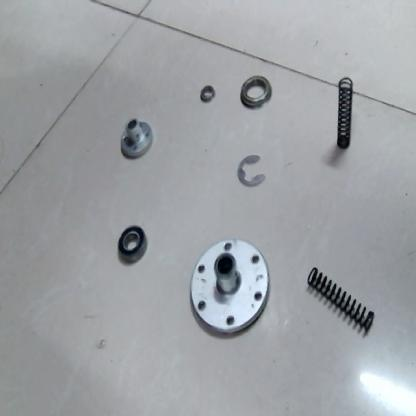FOD: (187, 234, 272, 338), (303, 263, 377, 338), (331, 74, 357, 153), (117, 116, 155, 162), (115, 224, 148, 264), (239, 72, 273, 110), (235, 152, 266, 189), (197, 82, 216, 105)
